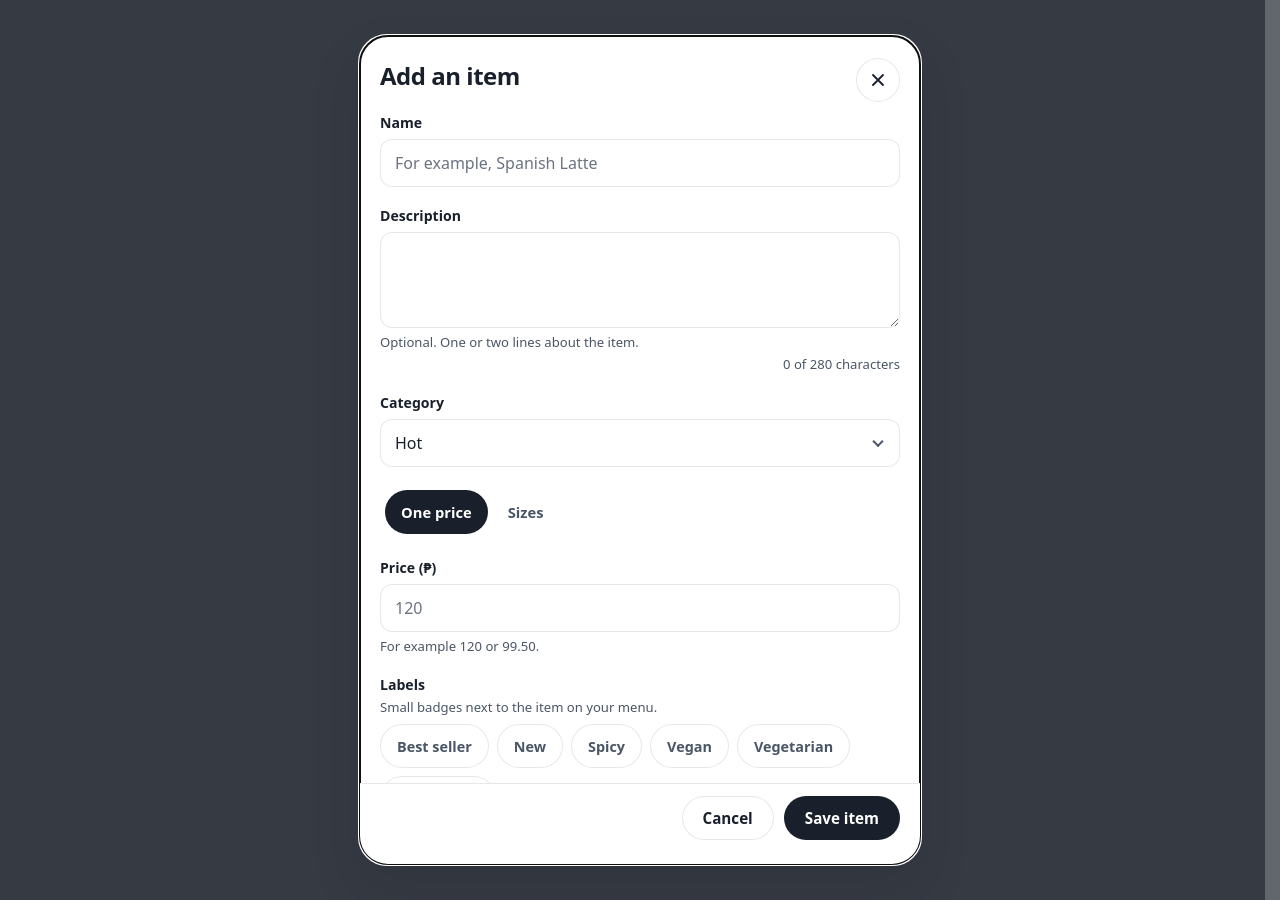
Test: ProductEditor: what it refuses › says a size has no name, marks that box and focuses it
The image size is (1280, 900).
Step 1. Type "Tea" into the field labelled "Name" → (640, 163), box x1=380 y1=139 x2=900 y2=187
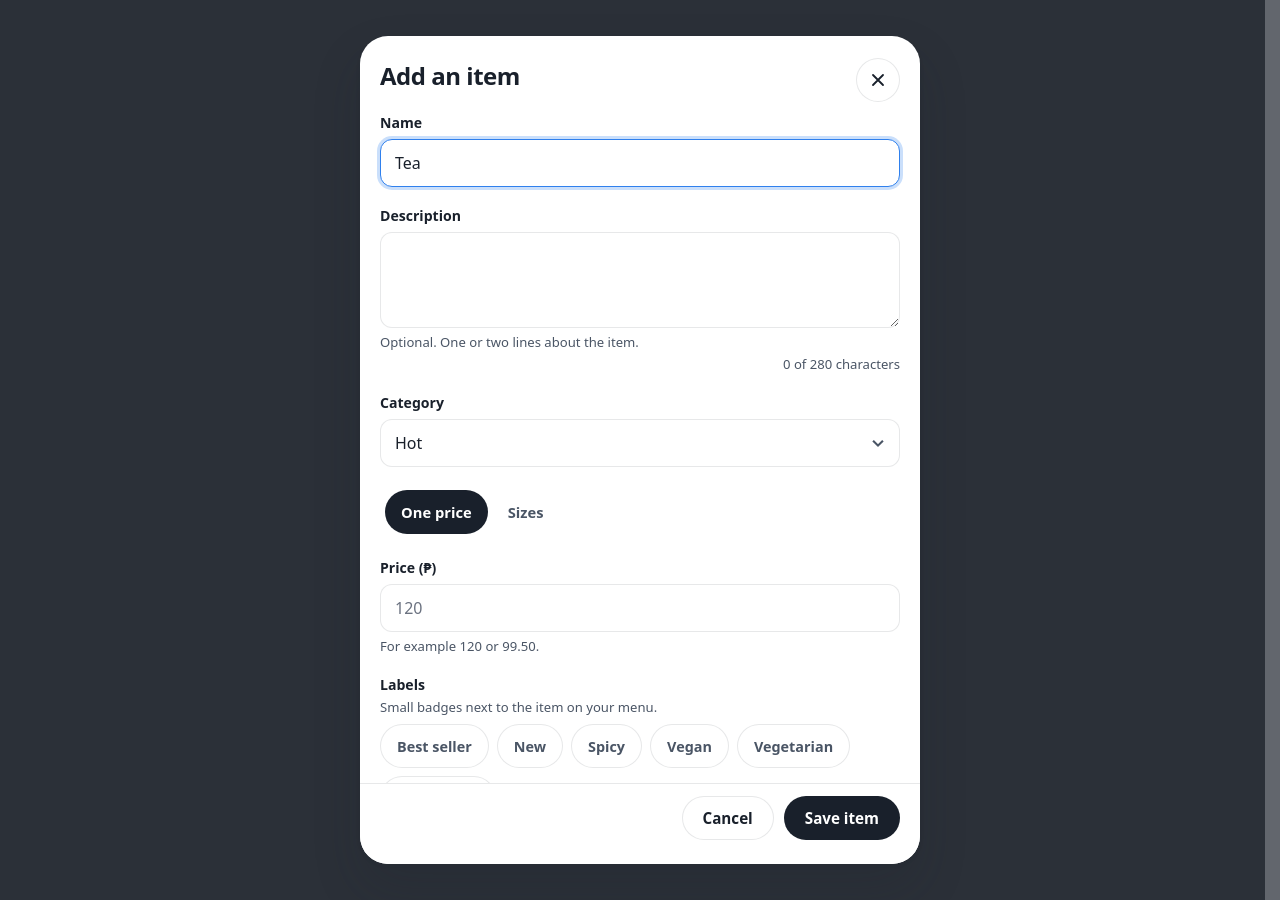
Step 2. Click the button "Sizes" → click(526, 512), box x1=492 y1=490 x2=560 y2=534
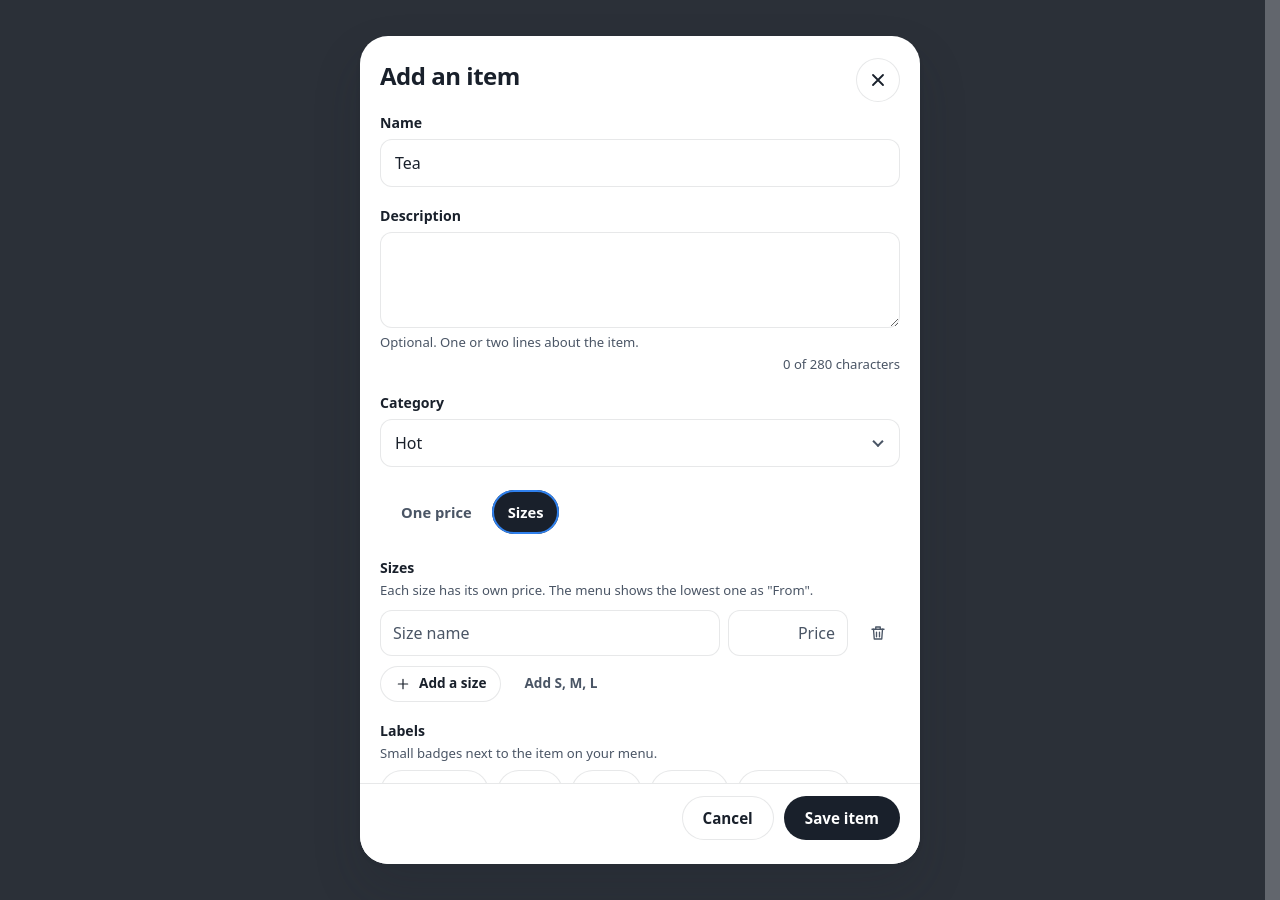
Step 3. Type "50" into the field named "Price of size 1 (₱)" → (788, 633), box x1=728 y1=610 x2=848 y2=656
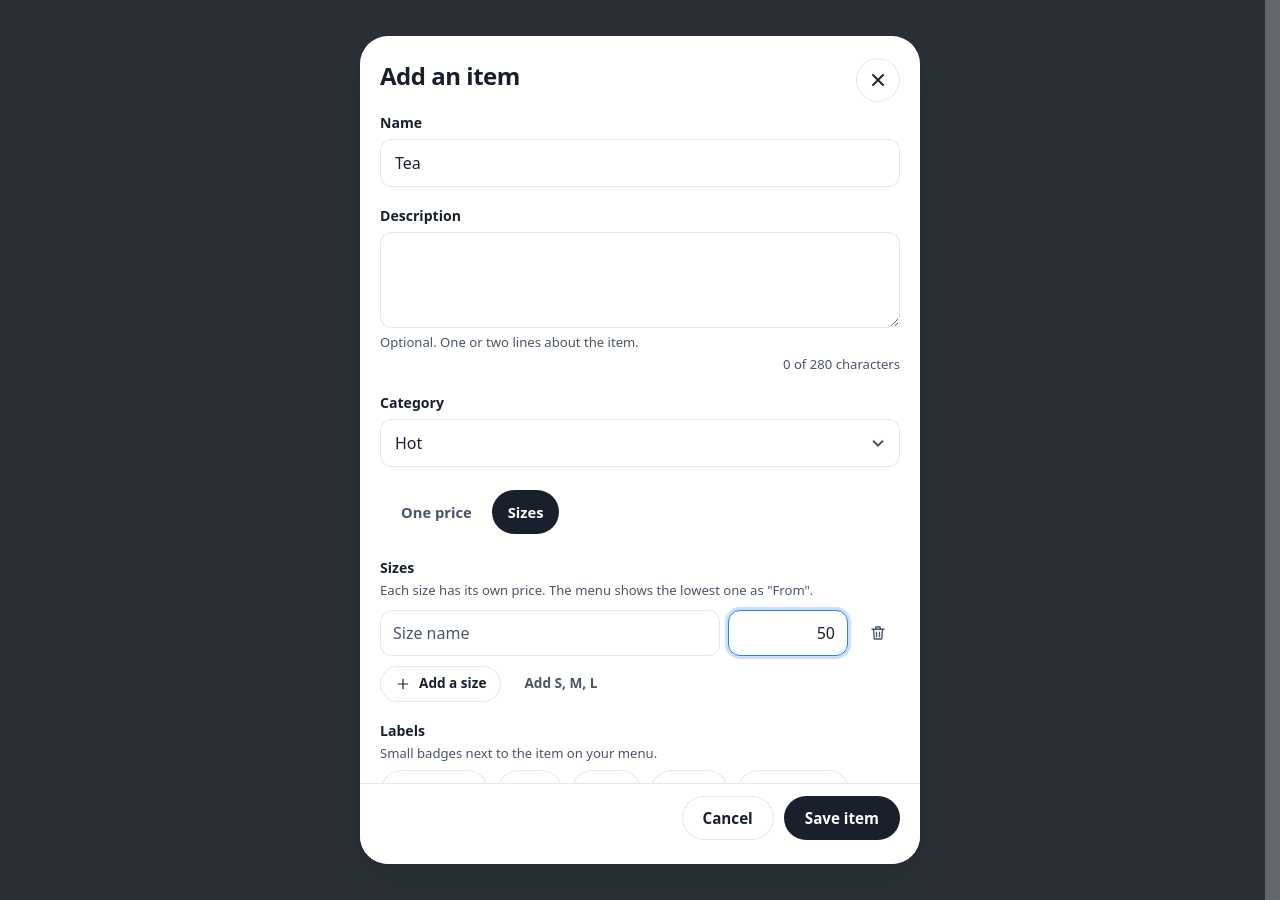
Step 4. Click the button "Save item" → click(842, 818), box x1=784 y1=796 x2=900 y2=840
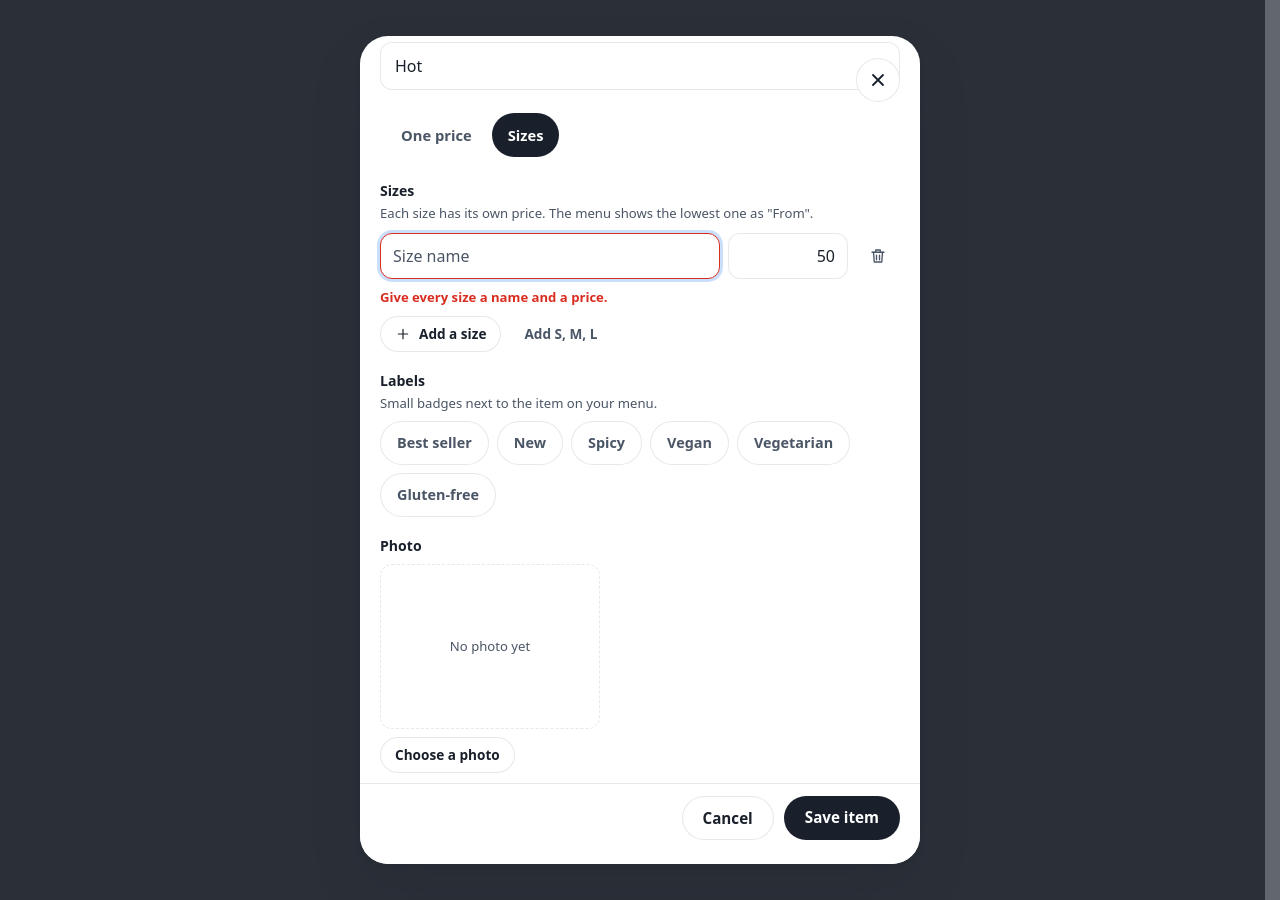
Expected: the text "Give every size a name and a price." is shown, x1=380 y1=288 x2=608 y2=306
